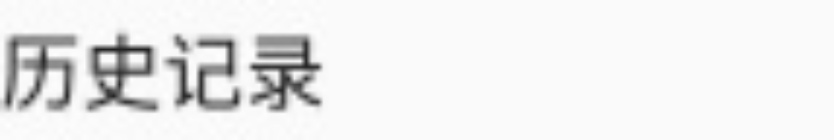TextView: (1, 1, 833, 139)
